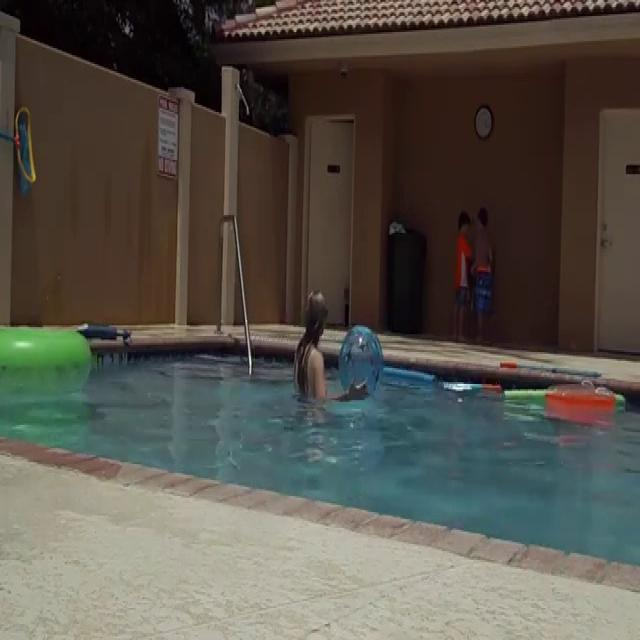adult: (293, 292, 369, 434)
child: (472, 206, 496, 338), (453, 208, 474, 346)
